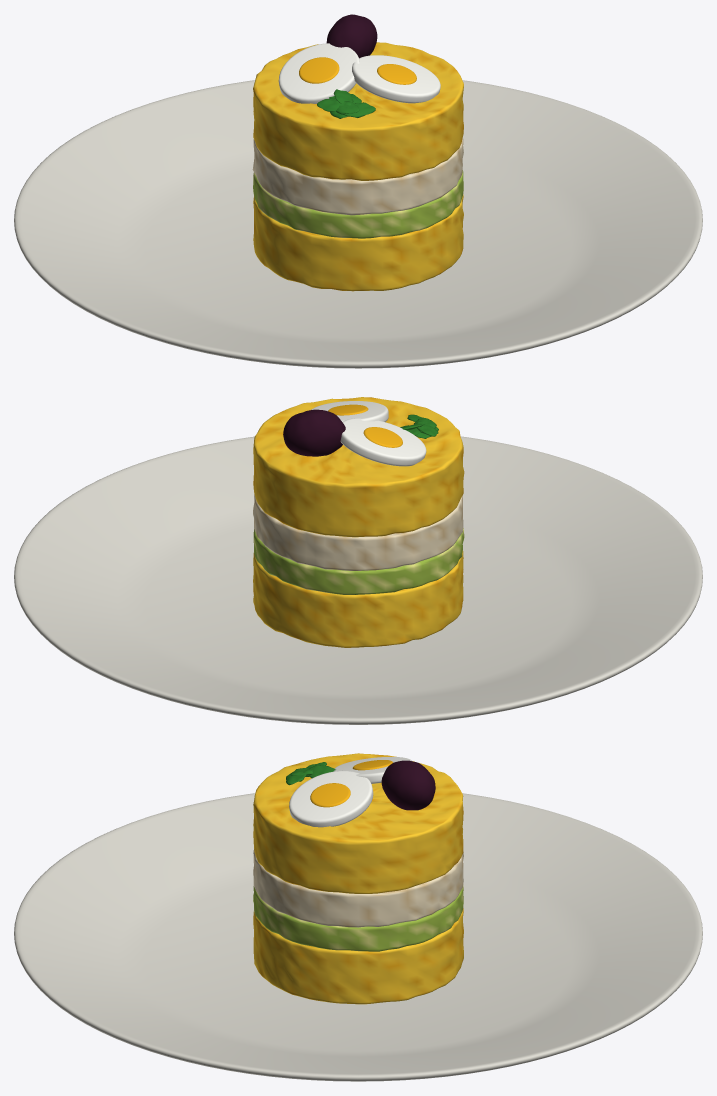
The model's file is paso-5.glb.
The picture shows the model from 3 angles, top to bottom: view 1: azimuth 30°, elevation 25°; view 2: azimuth 150°, elevation 25°; view 3: azimuth 270°, elevation 25°; orthographic projection.
Visible parts, largest first — view 1: paso-5-0, paso-5-4, paso-5-1, paso-5-3, paso-5-2, paso-5-5, paso-5-7, paso-5-9, paso-5-6, paso-5-8; view 2: paso-5-0, paso-5-4, paso-5-1, paso-5-3, paso-5-2, paso-5-5, paso-5-9, paso-5-7, paso-5-6; view 3: paso-5-0, paso-5-4, paso-5-1, paso-5-3, paso-5-2, paso-5-7, paso-5-9, paso-5-8, paso-5-5.
Boxes of the visible parts, x1,y1,x2,y2 form: paso-5-0: (14, 80, 702, 368); paso-5-4: (253, 42, 463, 180); paso-5-1: (253, 194, 463, 291); paso-5-3: (252, 137, 463, 215); paso-5-2: (253, 170, 463, 238); paso-5-5: (278, 43, 359, 103); paso-5-7: (352, 55, 440, 103); paso-5-9: (326, 14, 377, 58); paso-5-6: (299, 57, 339, 83); paso-5-8: (377, 64, 416, 84); paso-5-0: (14, 436, 702, 724); paso-5-4: (253, 397, 464, 537); paso-5-1: (253, 550, 463, 647); paso-5-3: (253, 494, 463, 570); paso-5-2: (253, 528, 464, 594); paso-5-5: (340, 418, 426, 466); paso-5-9: (283, 409, 345, 456); paso-5-7: (311, 401, 388, 421); paso-5-6: (363, 427, 402, 447); paso-5-0: (14, 793, 702, 1081); paso-5-4: (253, 753, 463, 893); paso-5-1: (253, 908, 463, 1004); paso-5-3: (253, 849, 463, 927); paso-5-2: (253, 885, 463, 951); paso-5-7: (289, 770, 373, 827); paso-5-9: (381, 760, 435, 810); paso-5-8: (310, 783, 350, 807); paso-5-5: (333, 757, 412, 783).
Bounding box in the file's own units: 0.26 × 0.0922 × 0.26.
